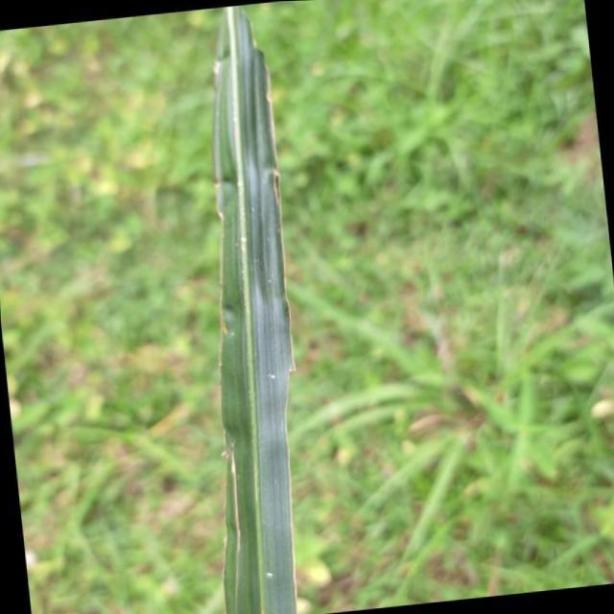Boron: (216, 0, 299, 614)
